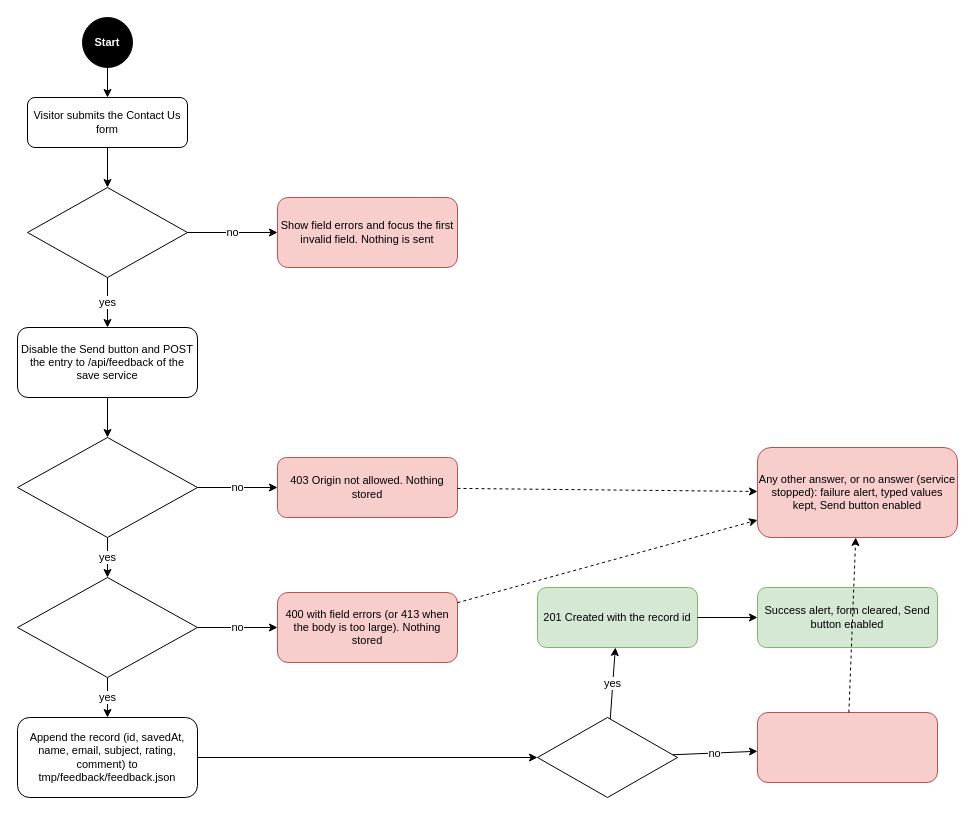
This 975x815 diagram has some shape labels left out. Each missing label, with the centre of its shape:
500 Could not save. Damaged or unwritable file stays untouched: the point at 847,747
Browser validation passes?: the point at 107,232
File written?: the point at 607,757
Origin allowed? (none, null, localhost): the point at 107,487
Service validation passes? (same rules): the point at 107,627
